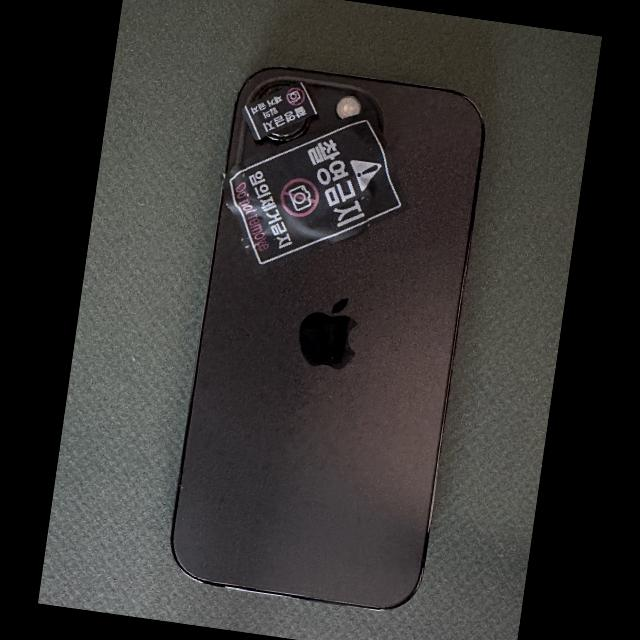lens: (267, 117, 311, 141)
phone: (170, 65, 486, 612)
sticker: (220, 110, 412, 275), (242, 81, 320, 141)
